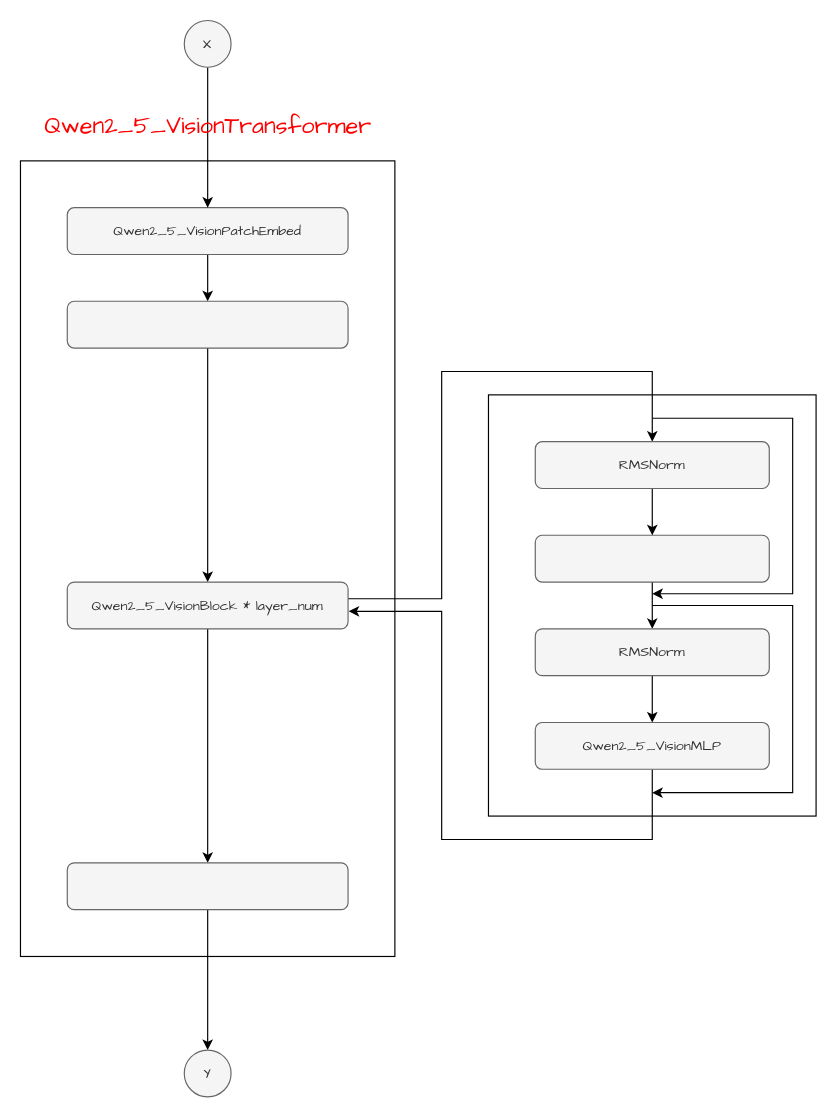
The diagram is 837 pixels wide and 1117 high, and some of its shapes have lost their labels. The centre of each missing label's shape, as x and y in pixels:
"Qwen2_5_VisionAttention" belongs at point 651,558.
"Qwen2_5_VisionPatchMerger" belongs at point 207,886.
"Qwen2_5_VisionRotaryEmbedding" belongs at point 207,324.
